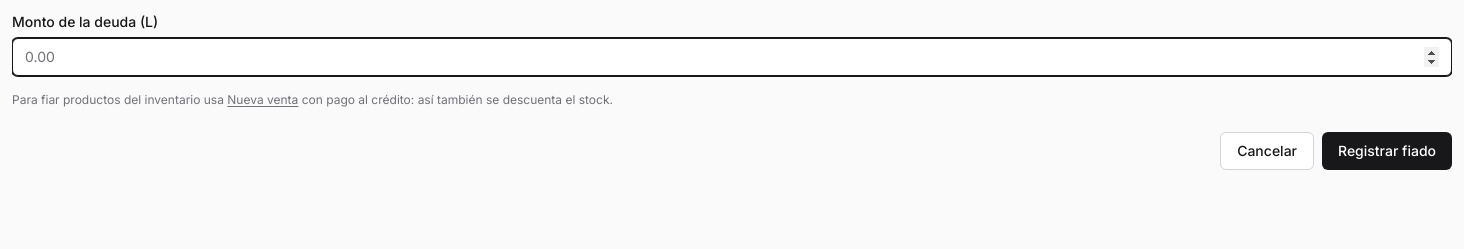
Test case: FiadoForm › envía el monto y muestra el error sin perder lo escrito
Step 1. Type "120.50" into the number field labelled "Monto de la deuda (L)" → (732,57), box [12,38,1452,76]
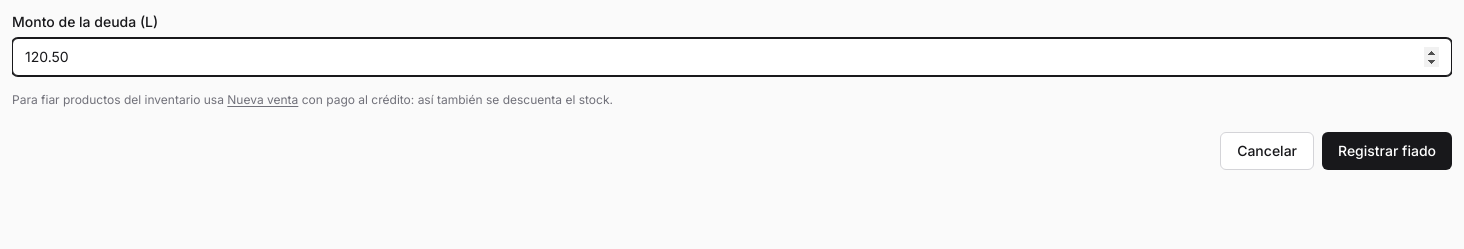
Step 2. Click the button "Registrar fiado" → (1387,151), box [1322,132,1452,170]
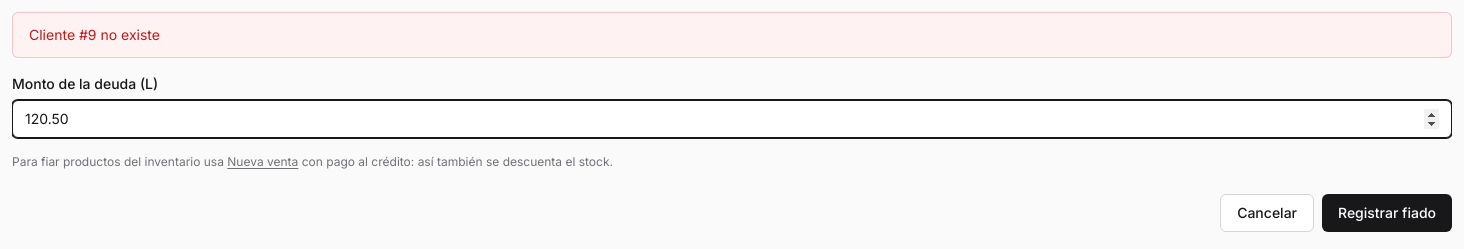
expect the text "Cliente #9 no existe" is shown: met, box [29,25,160,45]
